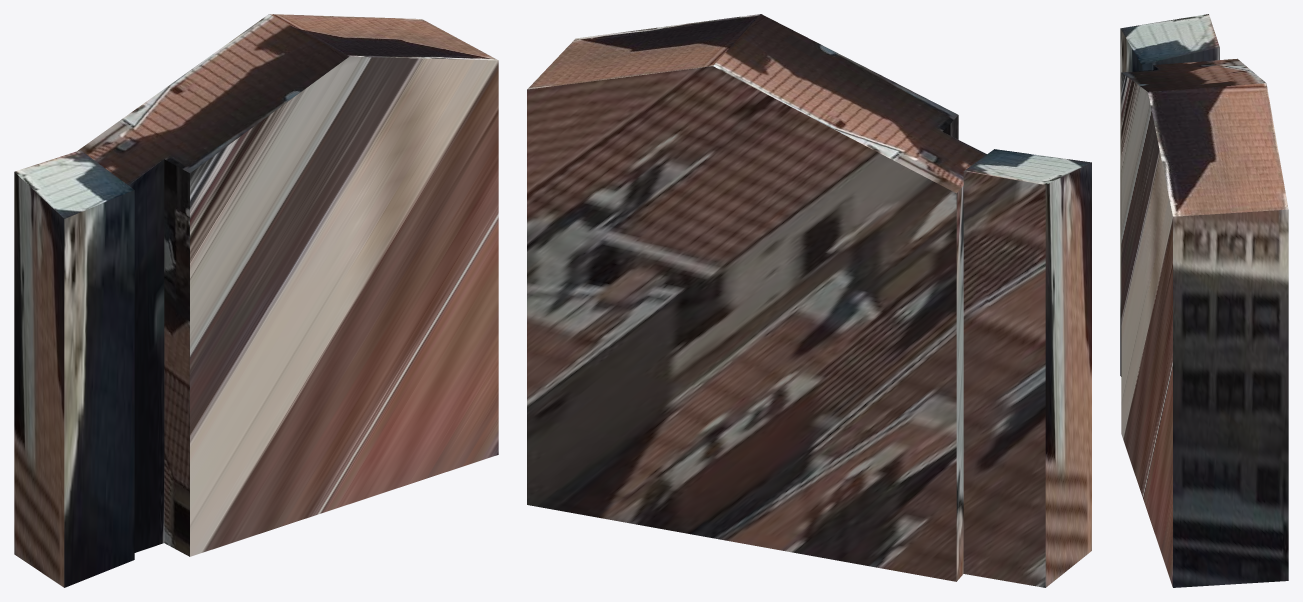
The picture shows the model from 3 angles, left to right: view 1: azimuth 30°, elevation 25°; view 2: azimuth 150°, elevation 25°; view 3: azimuth 270°, elevation 25°; orthographic projection. The views are drawn at different scales.
Parts seen in each view (by area): view 1: Z_UP; view 2: Z_UP; view 3: Z_UP.
Part boxes in pixels (bbox=[...]): Z_UP: bbox=[14, 14, 498, 587]; Z_UP: bbox=[527, 14, 1091, 587]; Z_UP: bbox=[1120, 14, 1288, 587].
Bounding box in the file's own units: 18.6 × 17.12 × 6.19.
2 materials, 1 textured.
